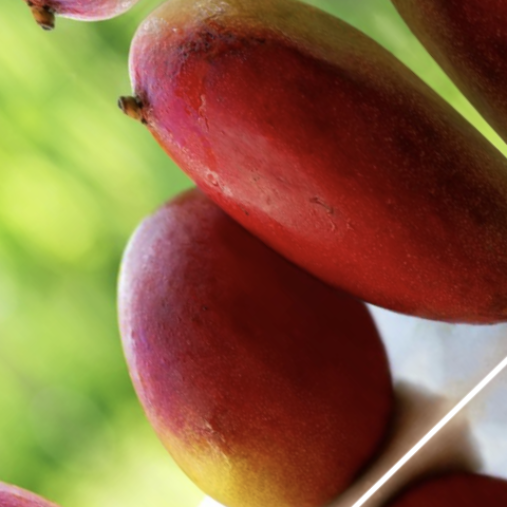mango: (62, 0, 507, 453), (17, 122, 484, 507)
